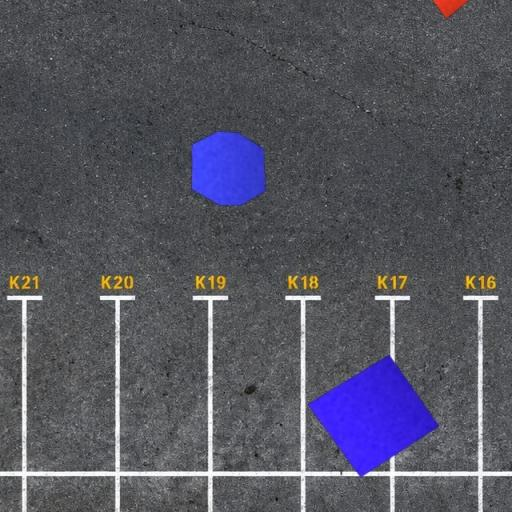BLUE_SQUARE: (306, 354, 440, 478)
RED_SQUARE: (420, 0, 482, 20)
